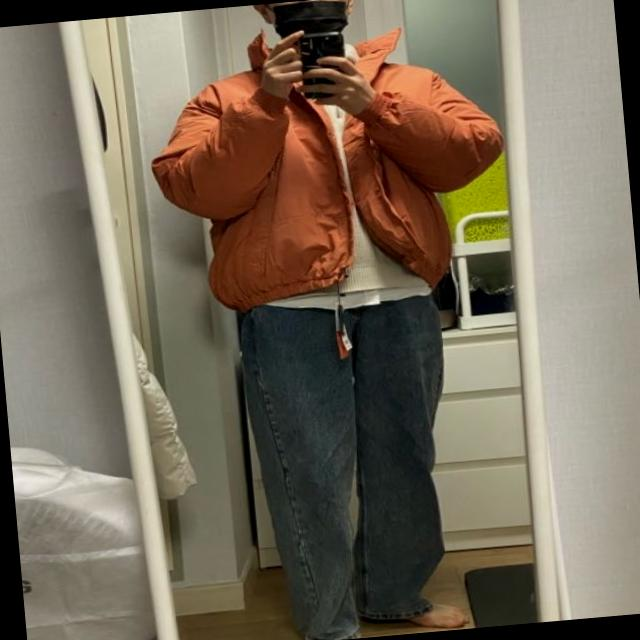denimpants: (231, 284, 469, 640)
padding: (144, 9, 514, 324)
